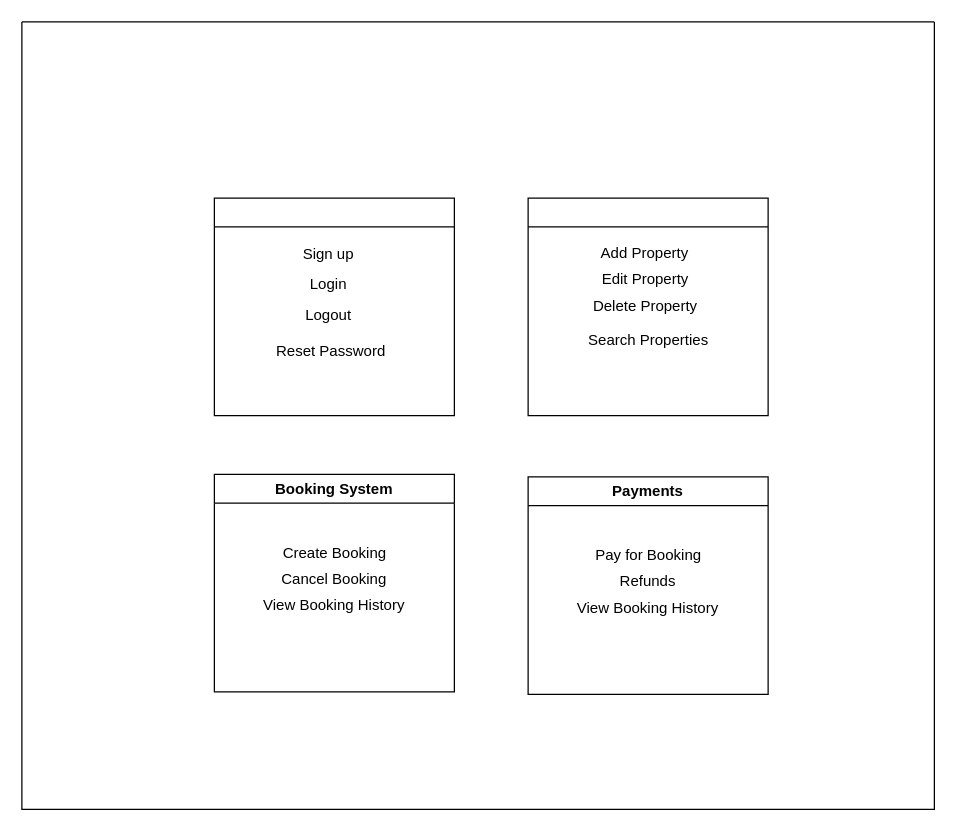
The diagram is 956 pixels wide and 831 high, and some of its shapes have lost their labels. The shapes that lost their labels are listed below. From the top down, each one's box as (x1, y1, x2, y2) in pixels, then its label:
(213, 197, 454, 416): User Authentication
(527, 197, 768, 416): Property Management
